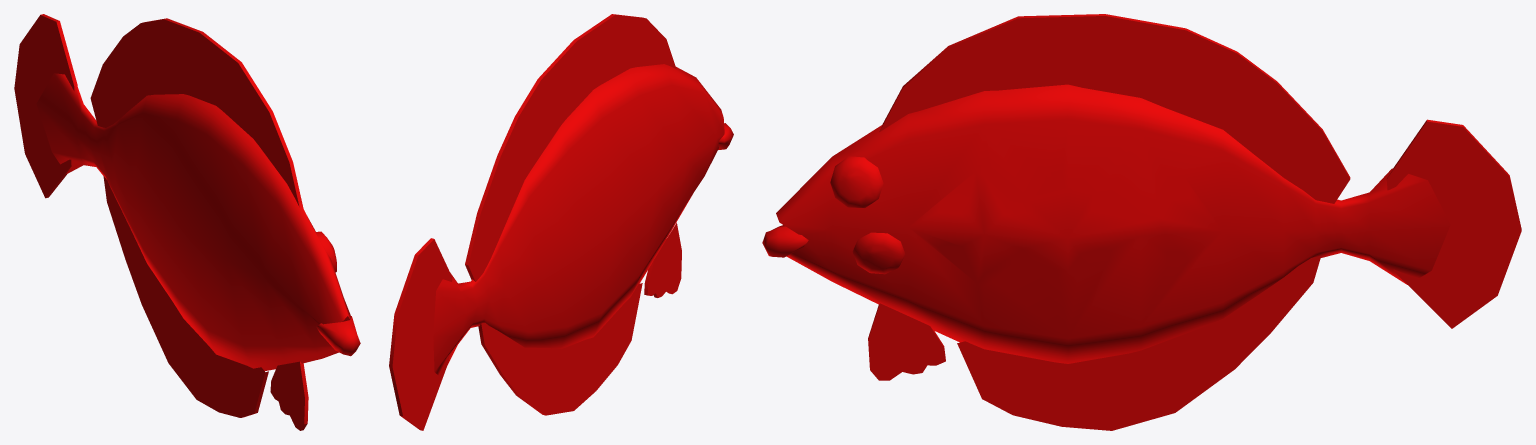
3 renders of one model, left to right at view 1: azimuth 30°, elevation 25°; view 2: azimuth 150°, elevation 25°; view 3: azimuth 270°, elevation 25°, orthographic. The views are drawn at different scales.
Parts seen in each view (by area): view 1: Fish_Plaice; view 2: Fish_Plaice; view 3: Fish_Plaice.
Part boxes in pixels (box(x1,y1,x2,y2)): Fish_Plaice: box(14, 14, 360, 430); Fish_Plaice: box(389, 14, 733, 430); Fish_Plaice: box(762, 14, 1521, 430).
Bounding box in the file's own units: 0.0486 × 0.298 × 0.4941.
